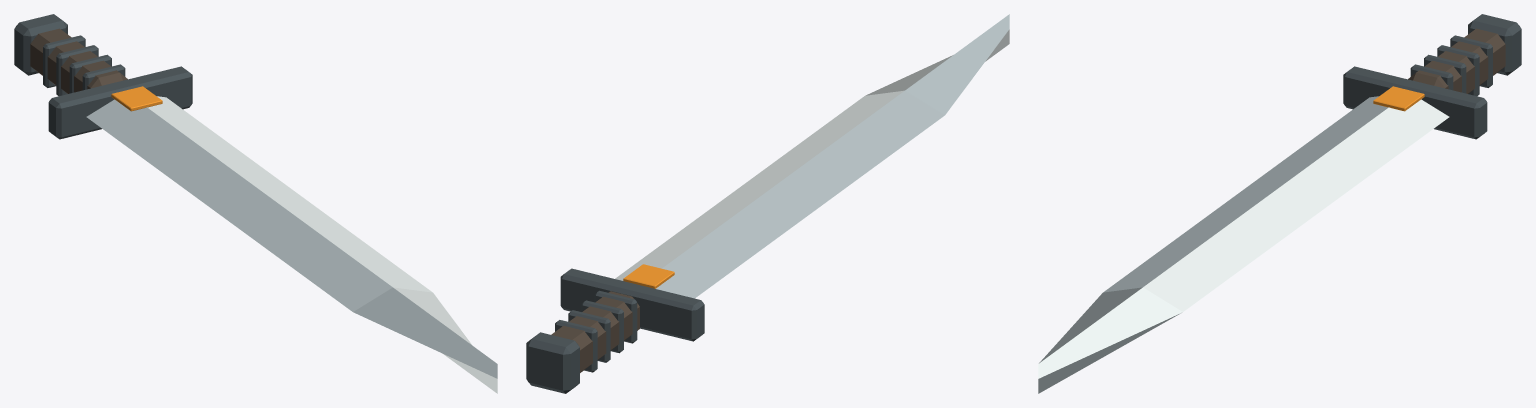
Rendered from weapon_sword.glb.
The picture shows the model from 3 angles, left to right: view 1: azimuth 30°, elevation 25°; view 2: azimuth 150°, elevation 25°; view 3: azimuth 330°, elevation 25°; orthographic projection.
Visible parts, largest first — view 1: Tapered steel blade.001, Crossguard.001, Leather grip.001, Pommel.001, Amber identification.001, Grip winding.007, Grip winding.006, Grip winding.005; view 2: Tapered steel blade.001, Crossguard.001, Pommel.001, Leather grip.001, Amber identification.001, Grip winding.004, Grip winding.007, Grip winding.006, Grip winding.005; view 3: Tapered steel blade.001, Crossguard.001, Leather grip.001, Pommel.001, Amber identification.001, Grip winding.007, Grip winding.006, Grip winding.005.
Part boxes in pixels (left/top/right/bottom): Tapered steel blade.001: left=86, top=96, right=497, bottom=393; Crossguard.001: left=48, top=66, right=192, bottom=139; Leather grip.001: left=30, top=28, right=127, bottom=93; Pommel.001: left=14, top=14, right=67, bottom=75; Amber identification.001: left=111, top=86, right=162, bottom=111; Grip winding.007: left=43, top=35, right=85, bottom=87; Grip winding.006: left=56, top=45, right=98, bottom=95; Grip winding.005: left=69, top=54, right=111, bottom=93; Tapered steel blade.001: left=615, top=14, right=1009, bottom=298; Crossguard.001: left=560, top=268, right=704, bottom=341; Pommel.001: left=526, top=332, right=579, bottom=393; Leather grip.001: left=551, top=291, right=639, bottom=372; Amber identification.001: left=623, top=264, right=674, bottom=288; Grip winding.004: left=594, top=290, right=637, bottom=343; Grip winding.007: left=555, top=320, right=597, bottom=372; Grip winding.006: left=568, top=310, right=610, bottom=362; Grip winding.005: left=581, top=300, right=623, bottom=353; Tapered steel blade.001: left=1038, top=96, right=1449, bottom=393; Crossguard.001: left=1343, top=66, right=1487, bottom=139; Leather grip.001: left=1408, top=28, right=1505, bottom=93; Pommel.001: left=1468, top=14, right=1521, bottom=75; Amber identification.001: left=1373, top=86, right=1424, bottom=111; Grip winding.007: left=1450, top=35, right=1492, bottom=87; Grip winding.006: left=1437, top=45, right=1479, bottom=95; Grip winding.005: left=1424, top=54, right=1466, bottom=93.
Size of the model in its own units: 0.238 by 0.078 by 1.4.
